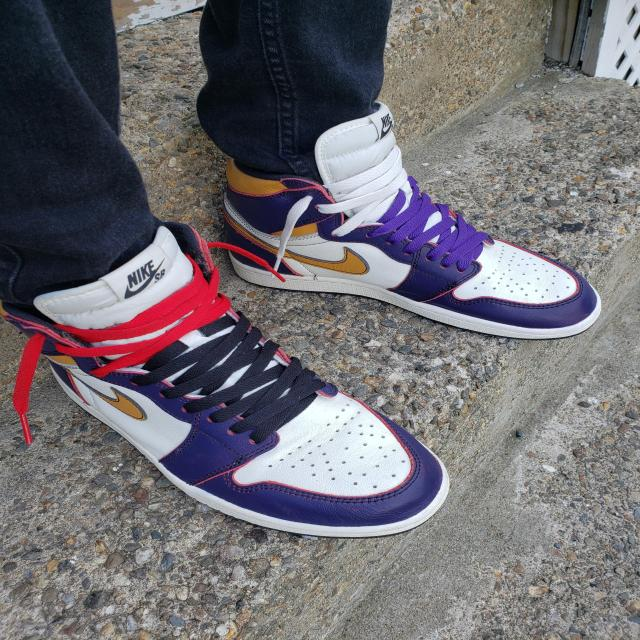shoe: (0, 216, 455, 541), (218, 98, 606, 342)
